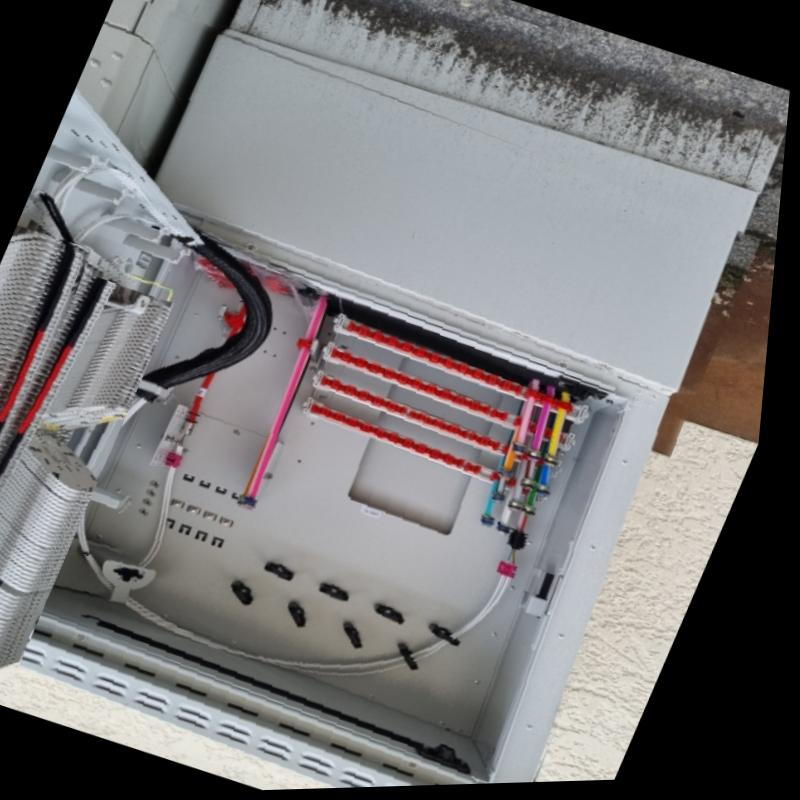NT-Gehause: (0, 47, 747, 790)
Spleiskassetten: (0, 300, 178, 672), (0, 230, 97, 489)
